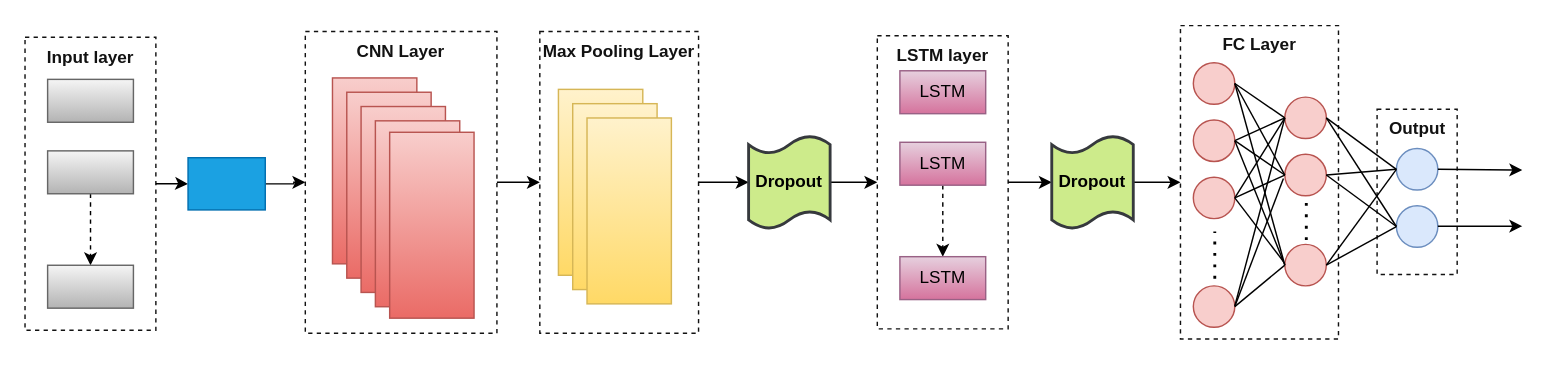
Image size: 1559x365. Some labels were removed from this diagram. Here are the shapes that lost their labels. From the top down, the centre of each, then its label:
At [89,100]: "X1".
At [89,171]: "X2".
At [226,183]: "Reshape Layer".
At [89,286]: "Xn".
